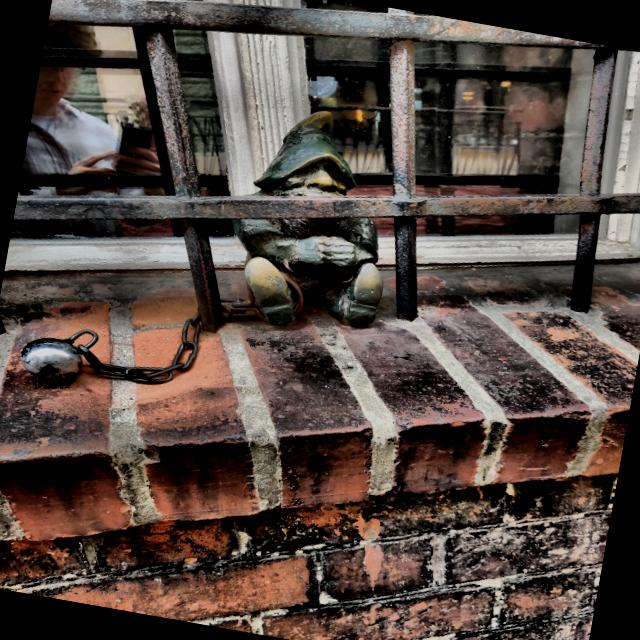Wiezien: (220, 217, 383, 326), (20, 314, 200, 384), (254, 111, 355, 196)
